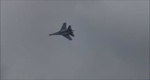maybay_muctieu: (50, 22, 75, 41)
